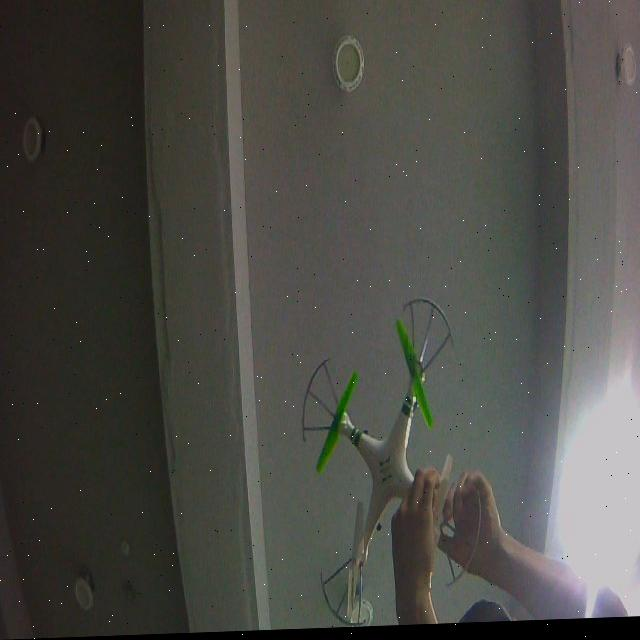drone: (297, 294, 483, 631)
